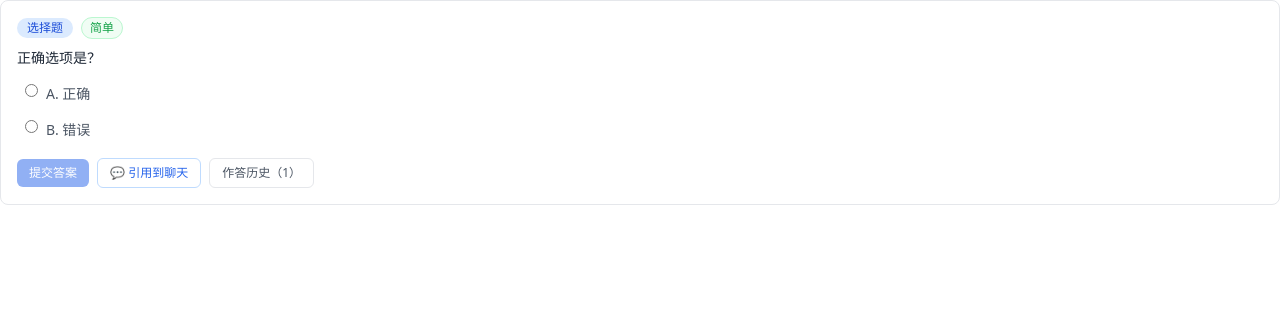
Test case: loads and displays persisted attempt history
Click the button "作答历史（1）" at (262, 173), box [209, 158, 314, 188]
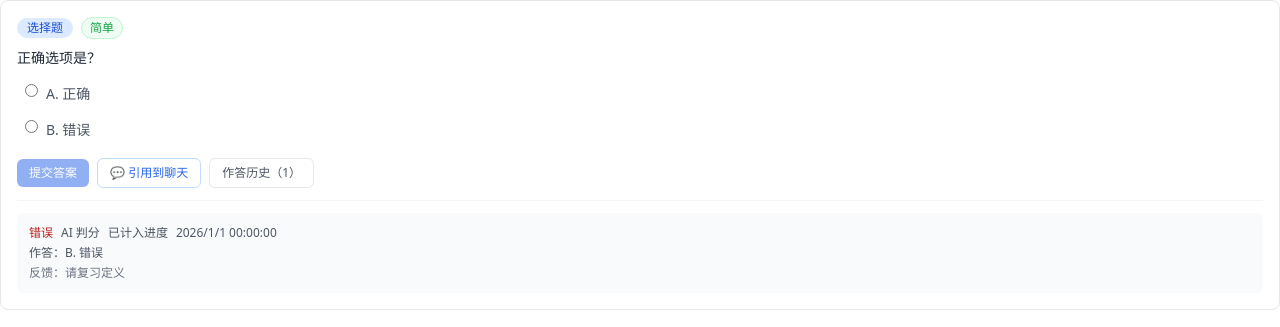
Result: the text "作答：B. 错误" is shown at [29, 244, 103, 261]
Result: the text "反馈：请复习定义" is shown at [29, 264, 125, 281]
